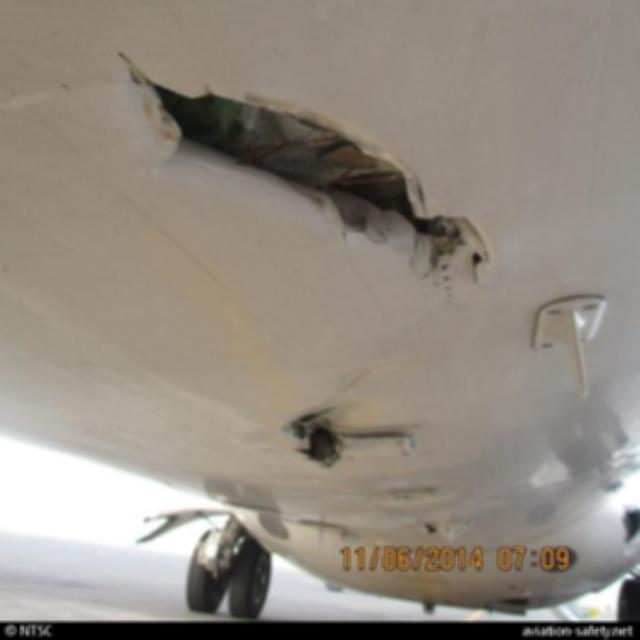crack: (119, 56, 494, 297)
